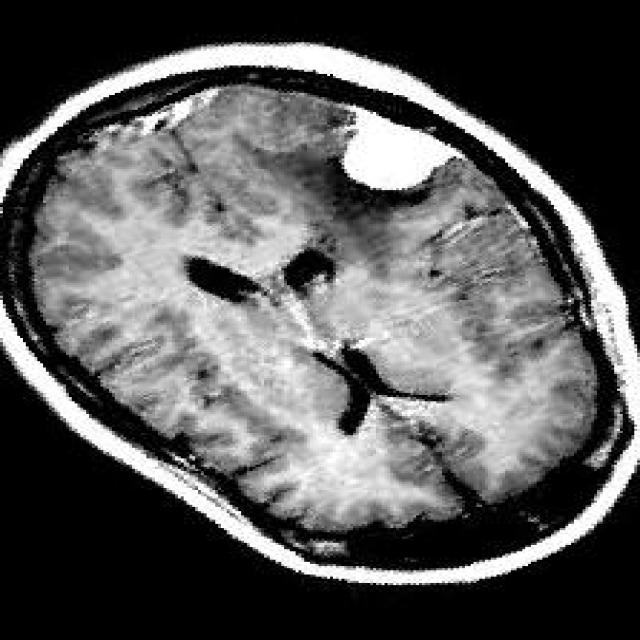Tumor-Cell: (338, 93, 462, 202)
